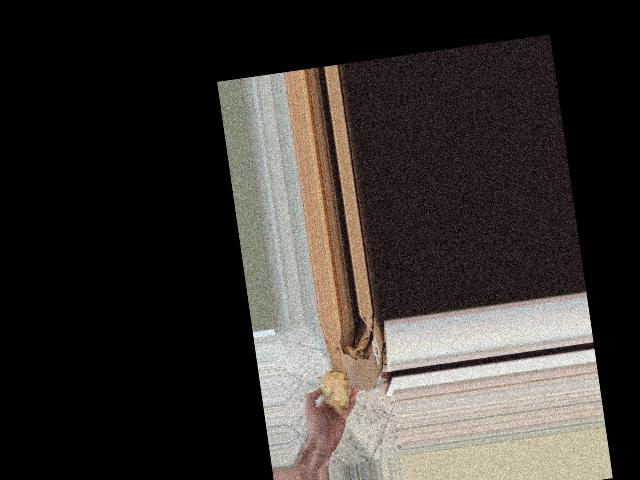onion: (315, 365, 355, 417)
